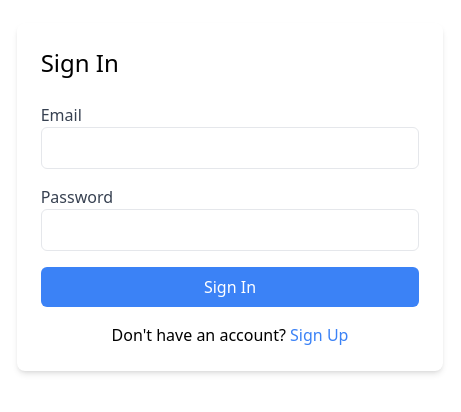
Test: SignIn Component › displays error message for invalid sign in
Type "test@test.com" into the field labelled "Email" at (230, 148), box [41,127,419,169]
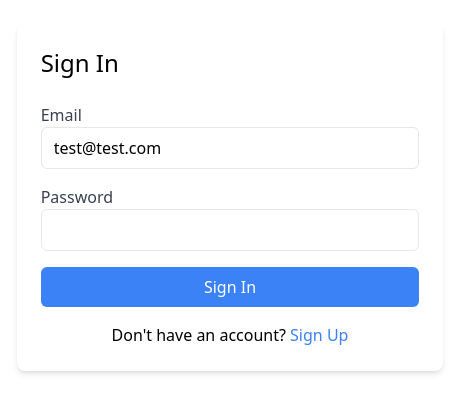
Type "wrongpassword" into the password field labelled "Password" at (230, 230), box [41,209,419,251]
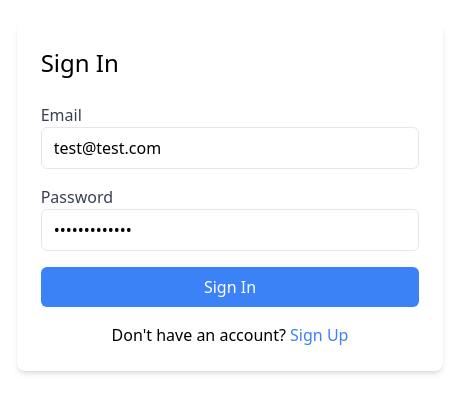
Click the button "Sign In" at (230, 287), box [41,267,419,307]
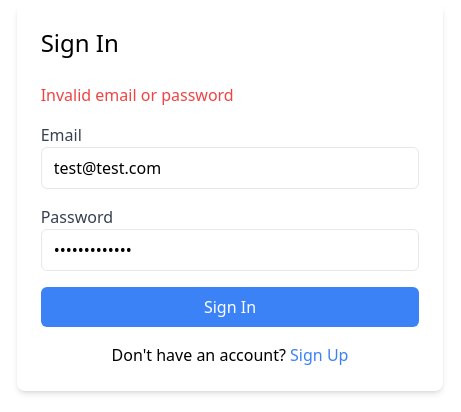
Now the text "Invalid email or password" is shown, box [41,84,234,106]
